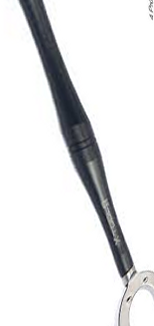wrench: (10, 1, 154, 326)
